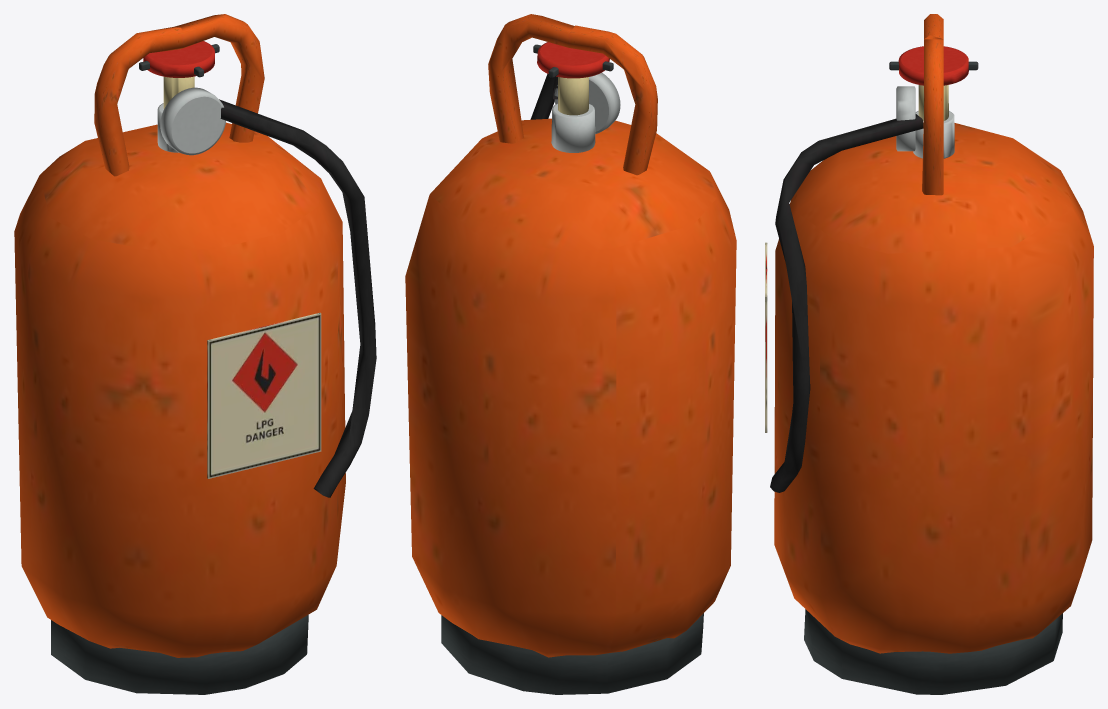
File: lpg.glb
3 views of the same model, side by side, from view 1: azimuth 30°, elevation 25°; view 2: azimuth 150°, elevation 25°; view 3: azimuth 270°, elevation 25° (orthographic).
Visible parts, largest first — view 1: Pressure vessel, Safety label, Base foot ring, Flexible regulator hose, Protective valve collar, Protective valve collar.001, Regulator, Valve hand wheel, Brass valve stem; view 2: Pressure vessel, Base foot ring, Protective valve collar, Protective valve collar.001, Valve hand wheel, Valve boss, Regulator, Brass valve stem, Flexible regulator hose; view 3: Pressure vessel, Base foot ring, Flexible regulator hose, Protective valve collar.001, Valve hand wheel, Regulator, Valve boss, Safety label.
Part boxes in pixels (x1,y1,x2,y2): Pressure vessel: (14,122,345,657); Safety label: (207,312,321,478); Base foot ring: (51,614,308,694); Flexible regulator hose: (219,99,376,497); Protective valve collar: (94,26,184,176); Protective valve collar.001: (175,14,264,142); Regulator: (160,87,225,155); Valve hand wheel: (143,41,214,77); Brass valve stem: (163,76,194,108); Pressure vessel: (405,118,736,657); Base foot ring: (441,613,703,694); Protective valve collar: (568,25,657,175); Protective valve collar.001: (488,14,574,143); Valve hand wheel: (537,42,609,78); Valve boss: (551,103,595,152); Regulator: (554,72,620,133); Brass valve stem: (558,77,588,115); Flexible regulator hose: (530,73,557,119); Pressure vessel: (774,123,1093,653); Base foot ring: (804,609,1062,694); Flexible regulator hose: (770,114,923,492); Protective valve collar.001: (922,39,943,195); Valve hand wheel: (898,46,968,85); Regulator: (896,86,915,151); Valve boss: (913,111,954,158); Safety label: (765,242,767,432).
Size of the model in its own units: 0.5807 by 1.2 by 0.5886.
1 material, 1 textured.
